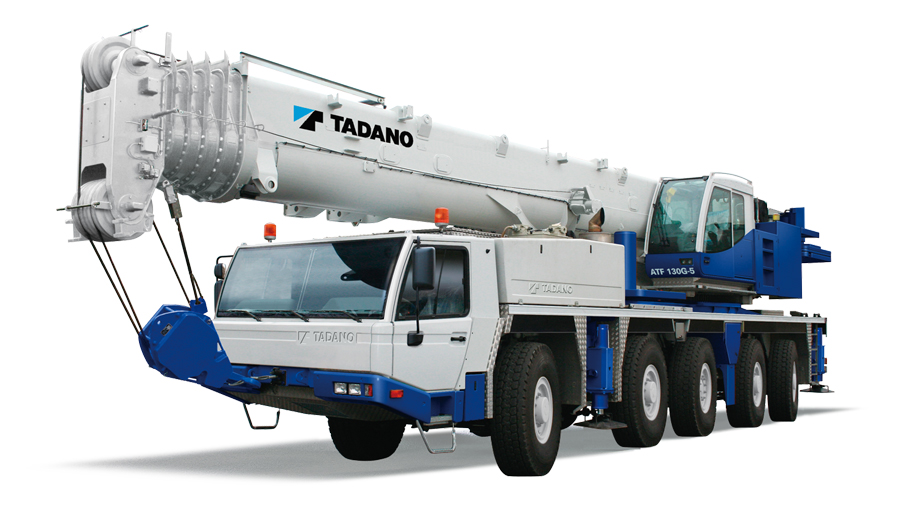crane: (67, 23, 827, 480)
